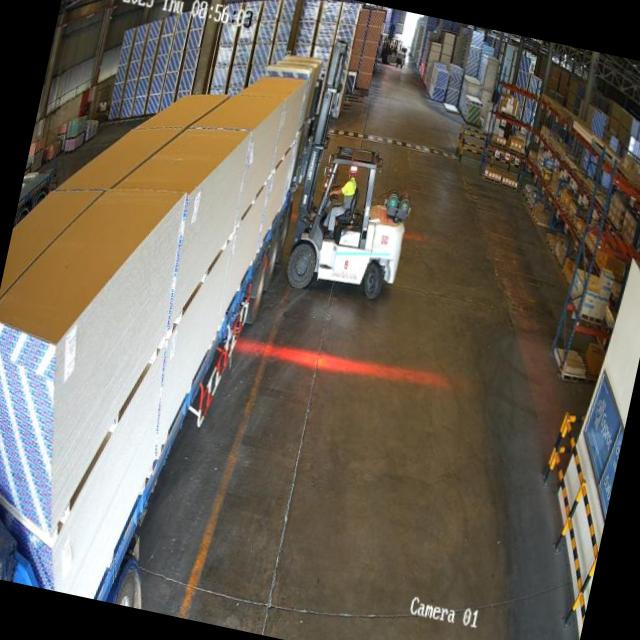driver: (318, 160, 364, 251)
forklift: (278, 134, 422, 316)
